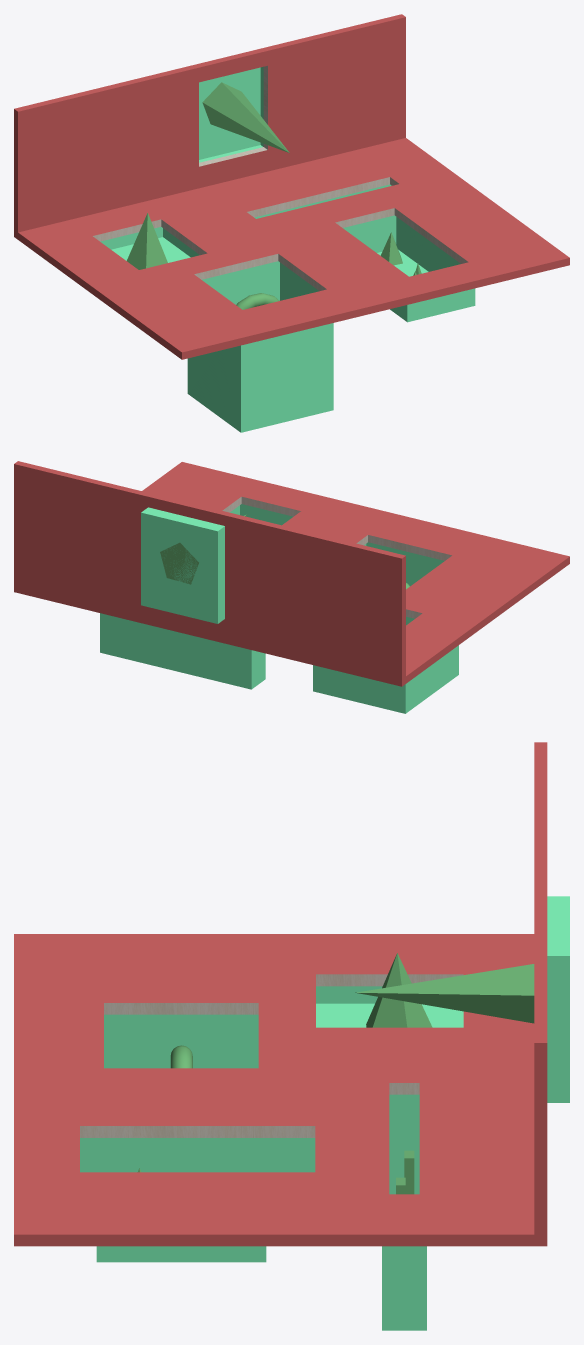
File: Simple Surface Export.fbx
3 views of the same model, one above another, from view 1: azimuth 30°, elevation 25°; view 2: azimuth 150°, elevation 25°; view 3: azimuth 270°, elevation 25° (orthographic). The views are drawn at different scales.
Parts seen in each view (by area): view 1: Edited Surfaces, Little Compartments, Little Objects, Wood Edges; view 2: Edited Surfaces, Little Compartments, Wood Edges, Little Objects; view 3: Edited Surfaces, Little Compartments, Little Objects, Wood Edges.
Boxes of the visible parts, x1,y1,x2,y2 form: Edited Surfaces: [14, 14, 569, 359]; Little Compartments: [100, 66, 475, 432]; Little Objects: [127, 82, 421, 309]; Wood Edges: [93, 65, 468, 291]; Edited Surfaces: [14, 461, 569, 686]; Little Compartments: [100, 504, 458, 713]; Wood Edges: [222, 496, 451, 618]; Little Objects: [160, 514, 409, 589]; Edited Surfaces: [14, 742, 547, 1246]; Little Compartments: [80, 896, 569, 1330]; Little Objects: [138, 953, 534, 1194]; Wood Edges: [80, 974, 463, 1137].
Size of the model in its own units: 2438 by 1907 by 1447.
Materials: 4 (1 with a texture image).
